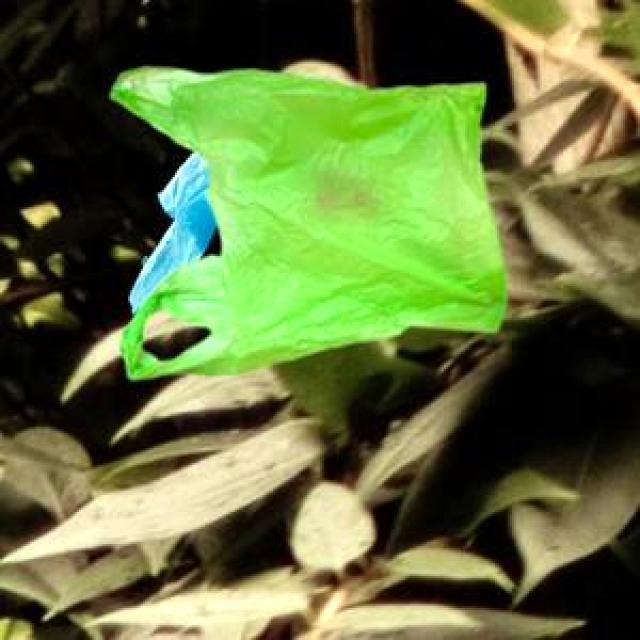Plastic_Bag: (108, 65, 502, 377), (126, 148, 216, 310)
